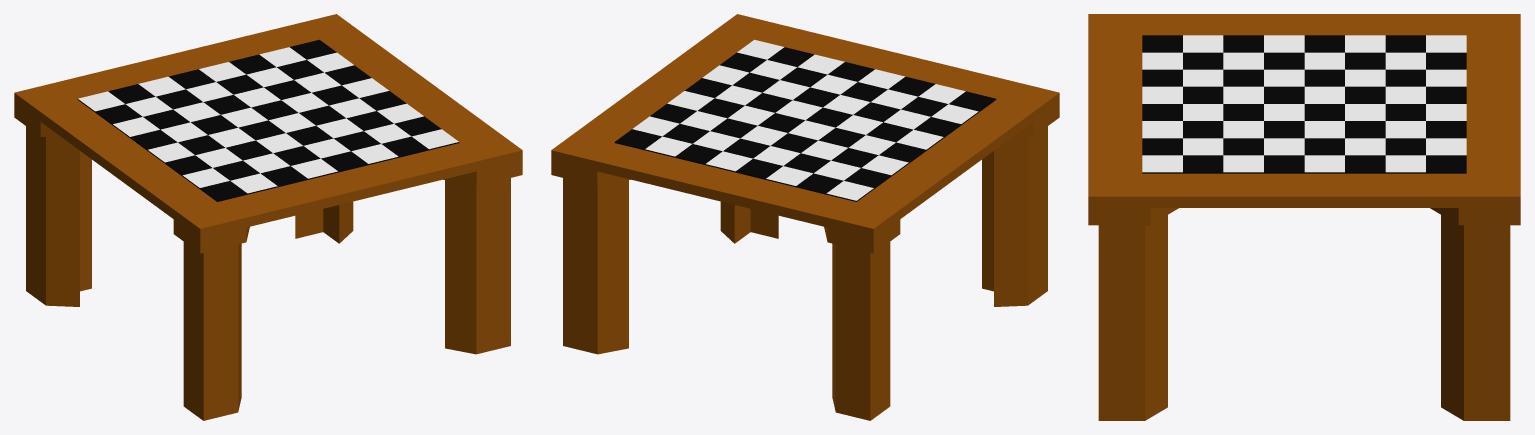
Rendered from chessbooard-file.glb.
3 views of the same model, side by side, from view 1: azimuth 30°, elevation 25°; view 2: azimuth 150°, elevation 25°; view 3: azimuth 270°, elevation 25° (orthographic). The views are drawn at different scales.
Visible parts, largest first — view 1: Cube, Board; view 2: Cube, Board; view 3: Cube, Board.
Part boxes in pixels (x1,y1,x2,y2): Cube: [14, 14, 522, 420]; Board: [77, 39, 459, 201]; Cube: [551, 14, 1059, 420]; Board: [614, 39, 996, 201]; Cube: [1088, 14, 1520, 420]; Board: [1142, 35, 1466, 173].
Size of the model in its own units: 16 by 9.4 by 16.
2 materials, 2 textured.
